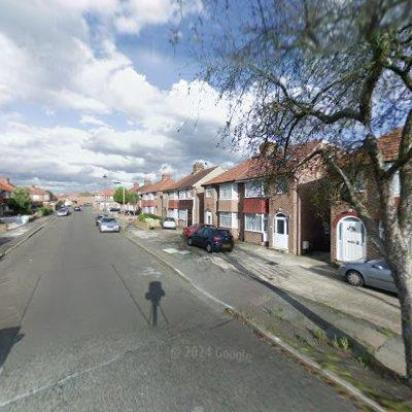moving-car: (72, 204, 82, 212)
stationary-car-offstreet: (336, 252, 412, 296), (186, 224, 236, 254), (162, 214, 176, 230)
stationary-car-onstreet: (97, 215, 121, 233), (56, 206, 68, 218)
